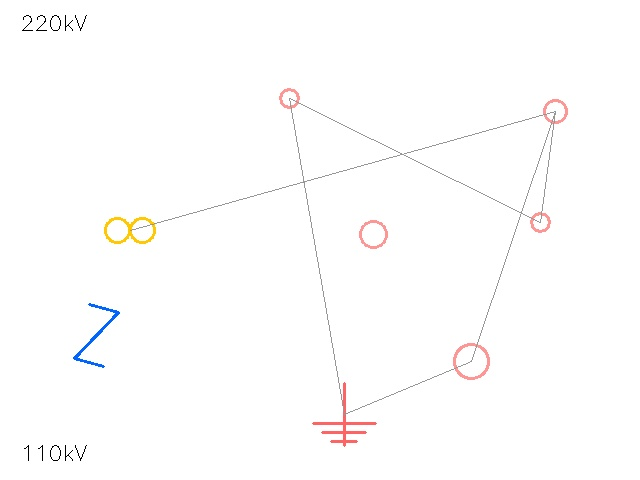circuit_breaker: (65, 304, 127, 366)
current_transformer: (437, 327, 505, 395)
disconnect_switch: (347, 208, 399, 260), (532, 88, 578, 134), (270, 79, 308, 117)
ground: (313, 383, 375, 445)
surge_arrester: (521, 203, 559, 241)
transformer_2w: (98, 198, 162, 262)
